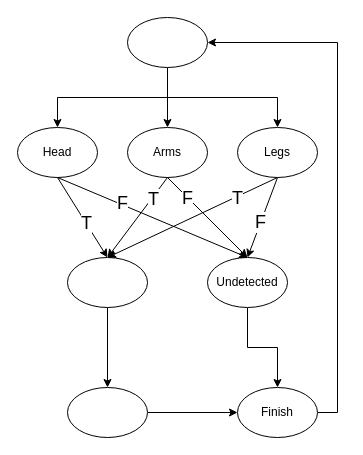
Some shapes in this 363 by 455 pixel diagram are drawn without their labels. The centre of each missing label's shape, as x and y in pixels:
Detected: point 107,412
Start: point 167,42
Torso: point 107,282
